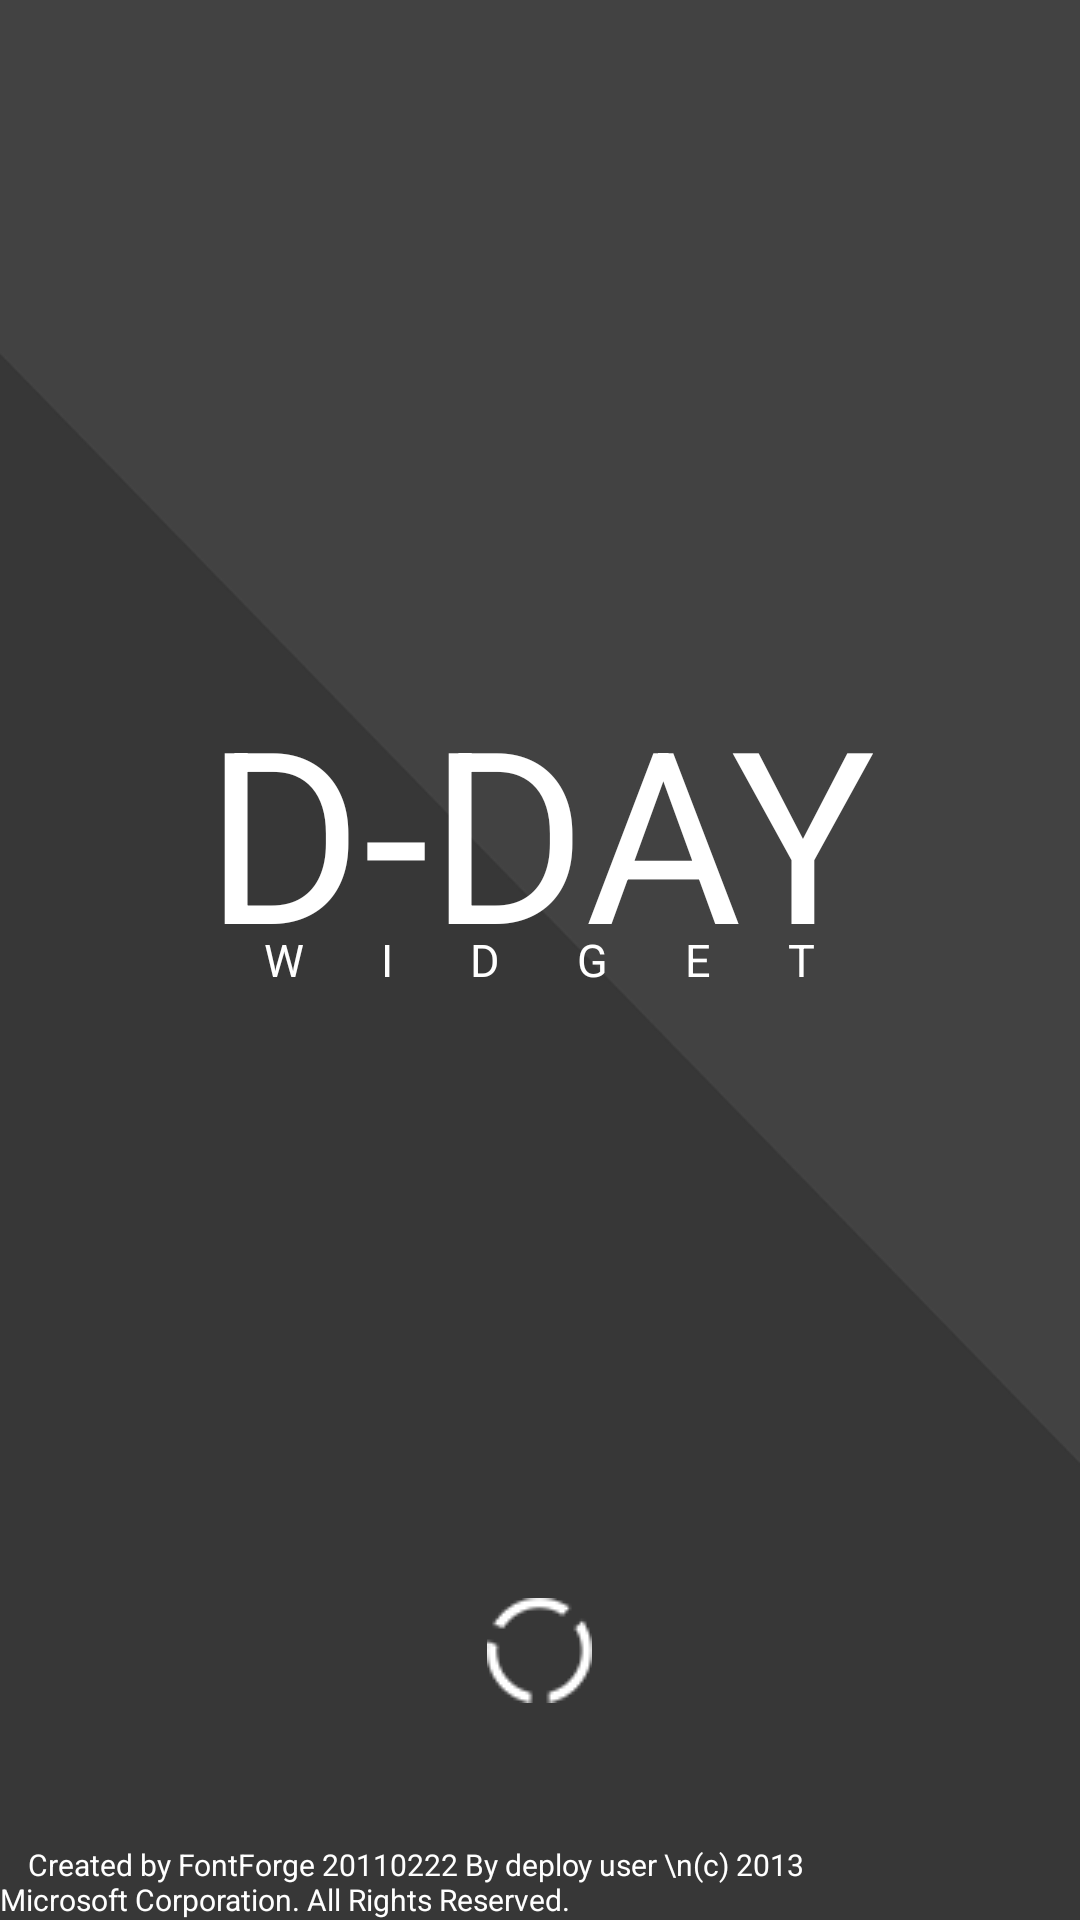

Point at icon controls on the screen. Image size 1080px×1920px, points as [x,y].
loading: [539,1650]
